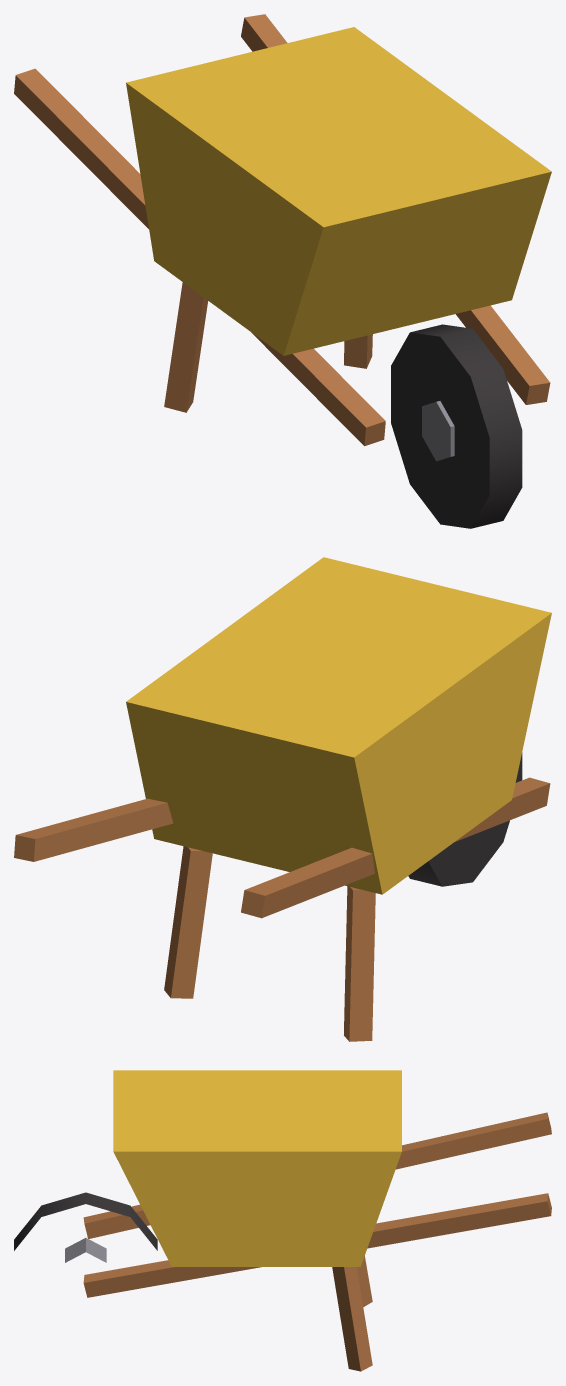
Rendered from wheelbarrow.glb.
3 renders of one model, top to bottom at view 1: azimuth 30°, elevation 25°; view 2: azimuth 150°, elevation 25°; view 3: azimuth 270°, elevation 25°, orthographic. The views are drawn at different scales.
Parts seen in each view (by area): view 1: wheelbarrow; view 2: wheelbarrow; view 3: wheelbarrow.
Boxes of the visible parts, <box> form: wheelbarrow: <box>14,14,551,528</box>; wheelbarrow: <box>14,557,551,1041</box>; wheelbarrow: <box>14,1070,551,1371</box>.
Size of the model in its own units: 0.6122 by 0.7252 by 1.57.
Materials: 1 (1 with a texture image).
